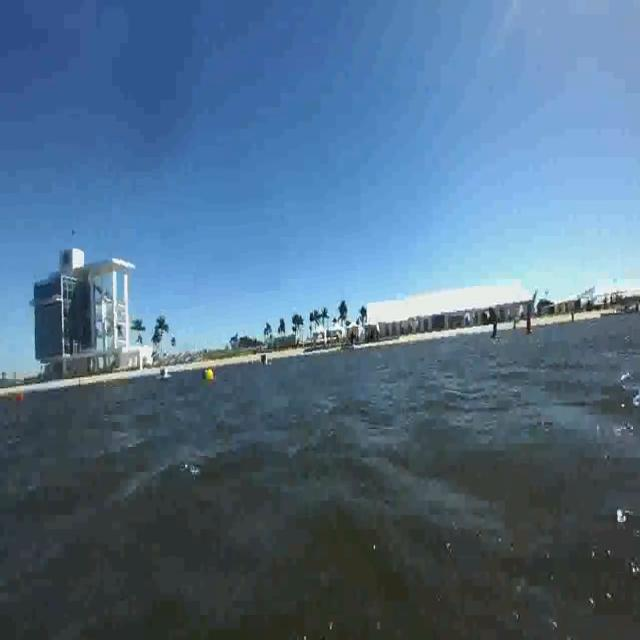yellow-buoy: (206, 366, 215, 381)
